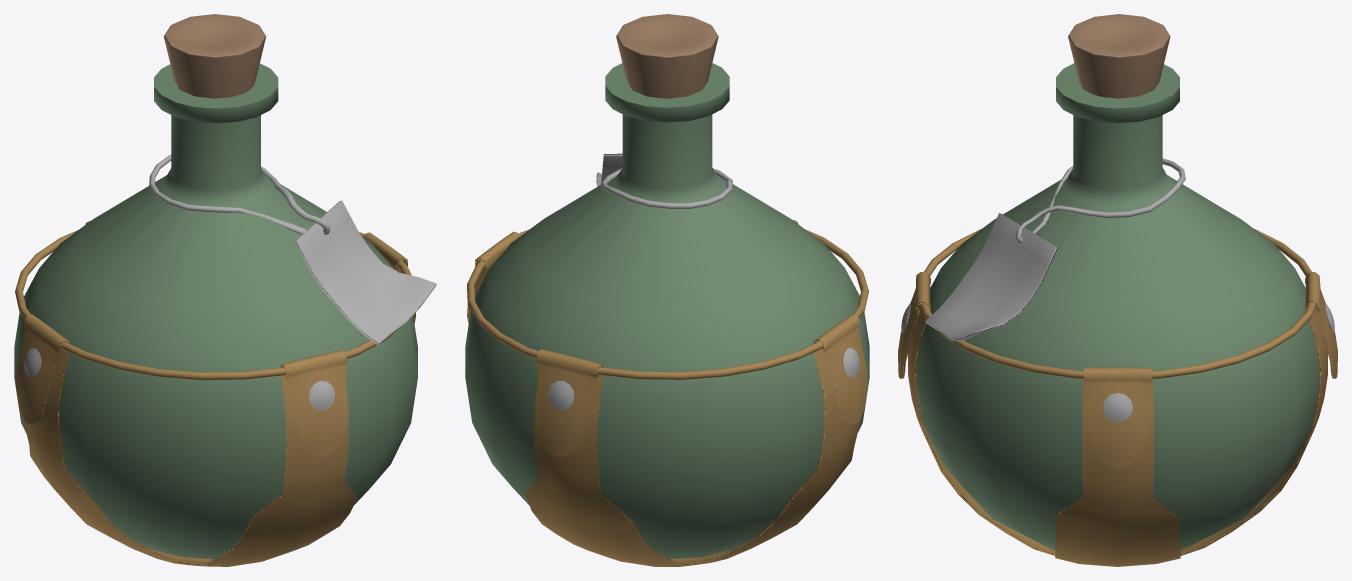
Rendered from health_pot.fbx.
The picture shows the model from 3 angles, left to right: view 1: azimuth 30°, elevation 25°; view 2: azimuth 150°, elevation 25°; view 3: azimuth 270°, elevation 25°; orthographic projection.
Parts seen in each view (by area): view 1: pSphere6, pouch:polySurface19, pPlane4, pCylinder35, pCylinder34, pCylinder11; view 2: pSphere6, pouch:polySurface19, pCylinder35, pCylinder34, pCylinder13; view 3: pSphere6, pouch:polySurface19, pPlane4, pCylinder35, pCylinder34, pCylinder12.
Boxes of the visible parts, x1,y1,x2,y2 form: pSphere6: (14, 63, 417, 559); pouch:polySurface19: (15, 221, 415, 566); pPlane4: (294, 200, 436, 344); pCylinder35: (163, 14, 266, 98); pCylinder34: (149, 155, 330, 234); pCylinder11: (309, 381, 334, 410); pSphere6: (465, 63, 869, 559); pouch:polySurface19: (467, 220, 868, 566); pCylinder35: (616, 14, 718, 98); pCylinder34: (600, 168, 732, 208); pCylinder13: (548, 380, 574, 409); pSphere6: (916, 63, 1319, 549); pouch:polySurface19: (898, 229, 1337, 566); pPlane4: (925, 213, 1058, 341); pCylinder35: (1068, 14, 1170, 98); pCylinder34: (1015, 158, 1185, 243); pCylinder12: (1103, 393, 1132, 422).
Size of the model in its own units: 12.41 by 16.05 by 12.41.
